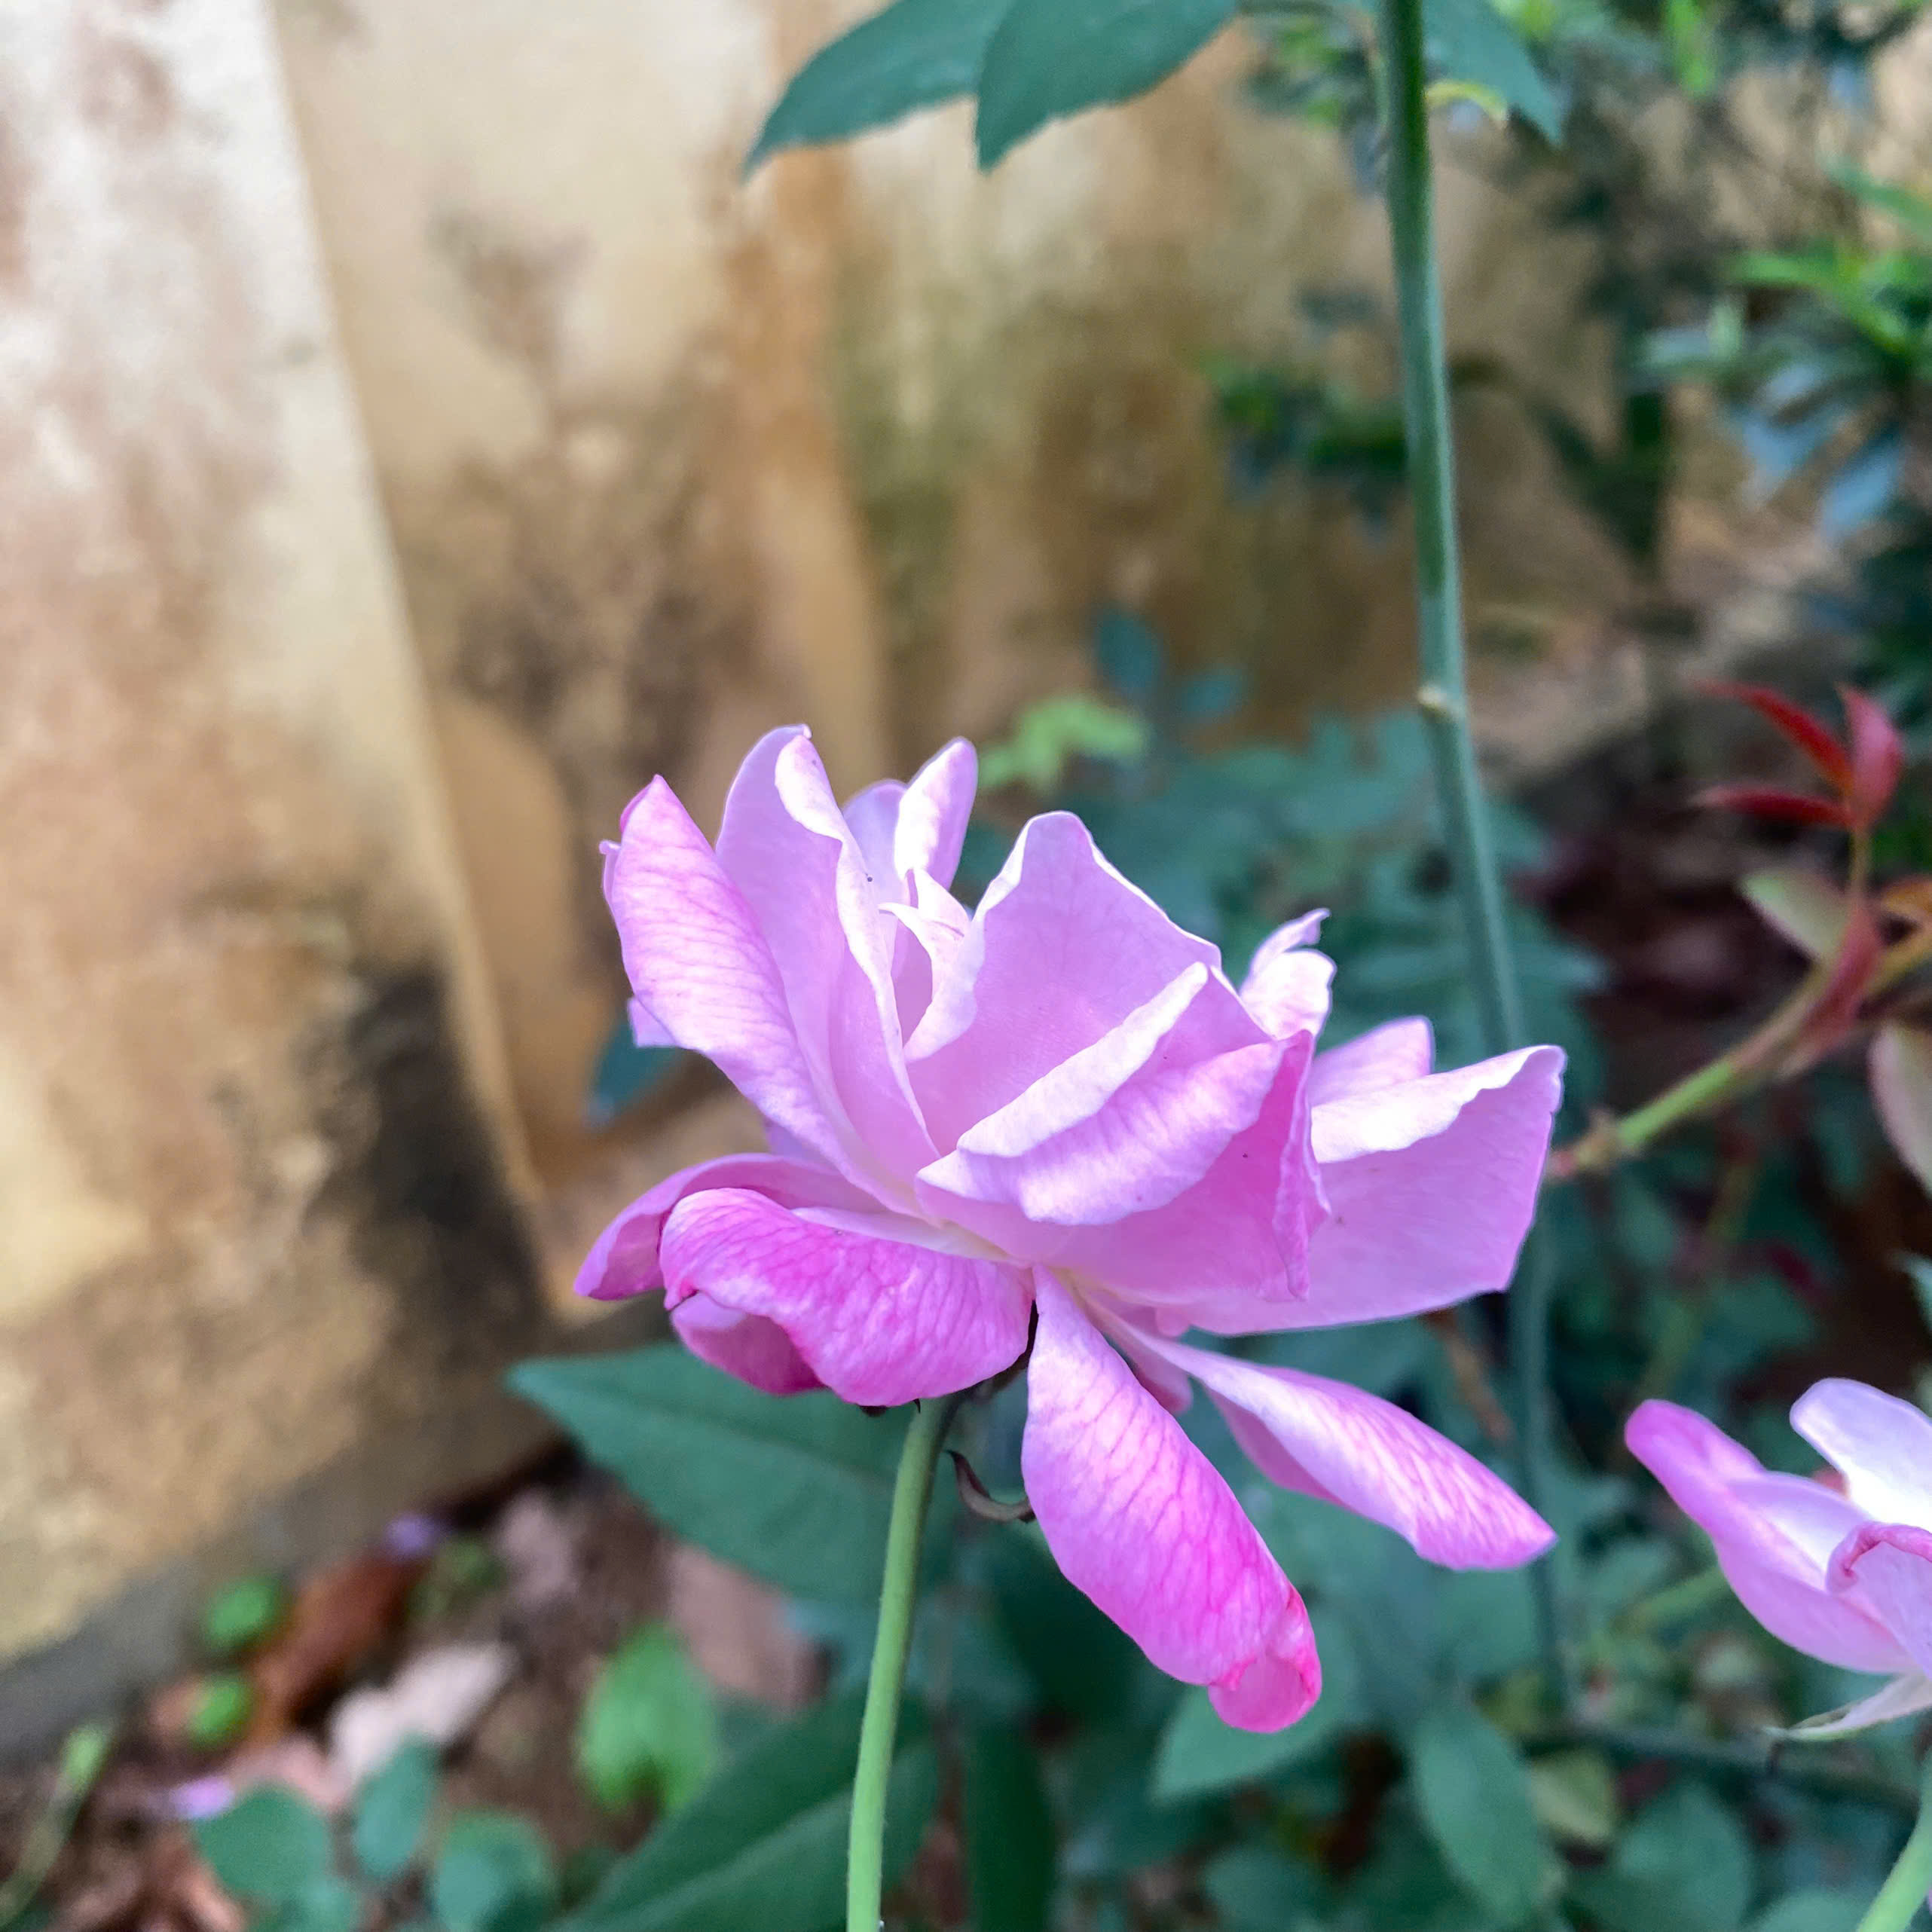hoa_hong_phan: (472, 686, 1631, 1785)
